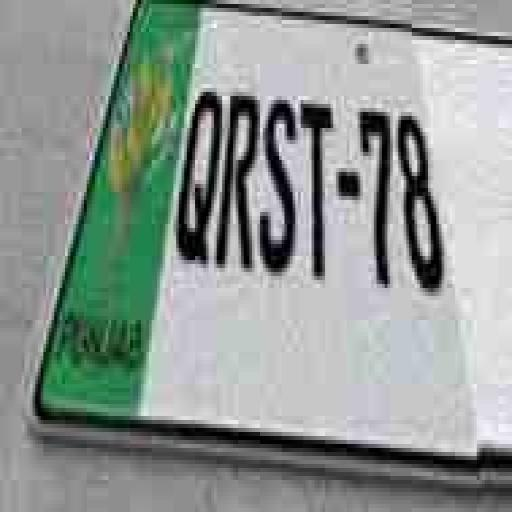7: (353, 99, 392, 285)
8: (396, 100, 442, 296)
Q: (176, 81, 219, 293)
R: (223, 83, 263, 291)
S: (260, 88, 298, 288)
T: (302, 91, 336, 283)
